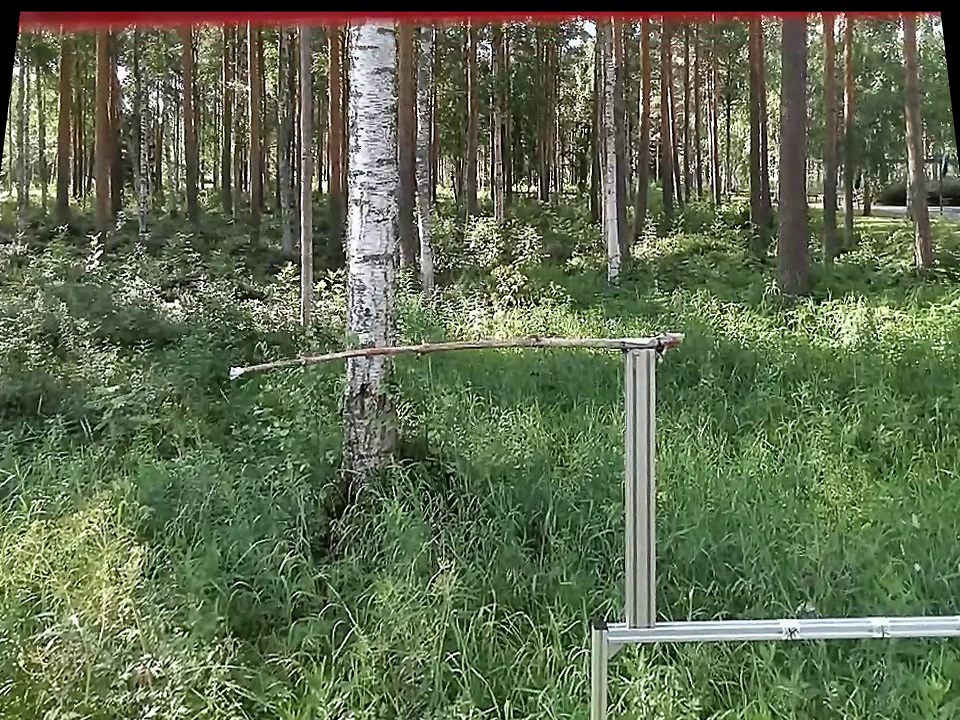aluminum_frame: (606, 610, 958, 644), (618, 352, 660, 625), (583, 616, 619, 718)
branch: (251, 323, 622, 387)
